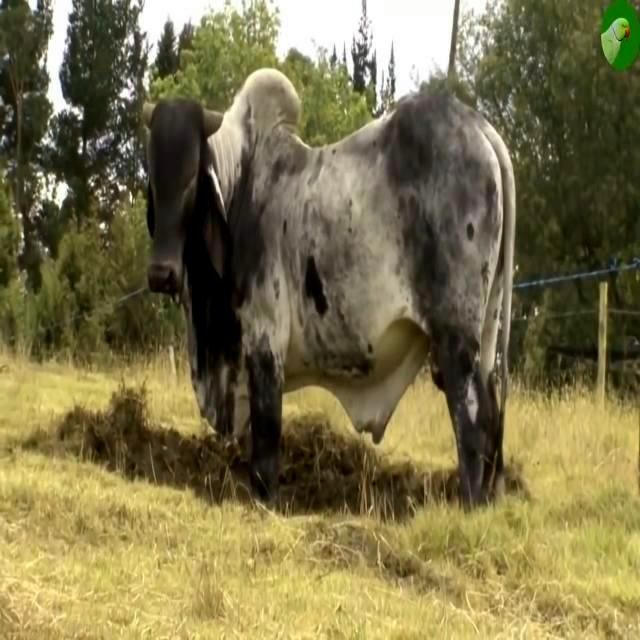COW: (148, 69, 515, 506)
